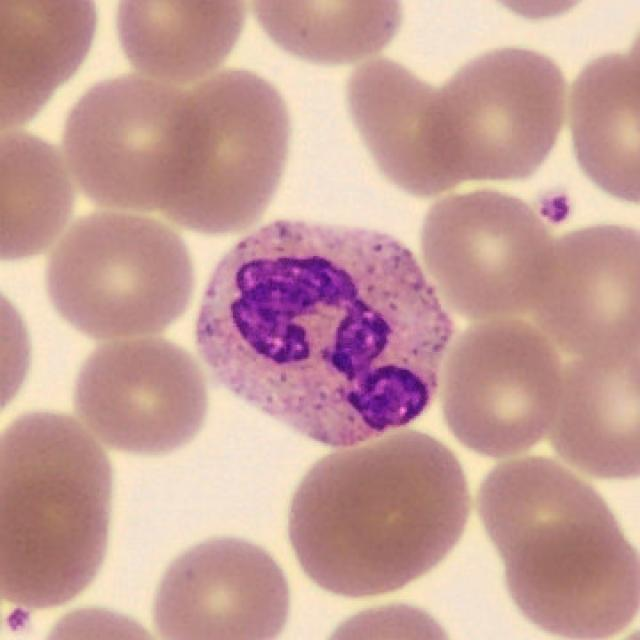Neutrofilo segmentado: (196, 220, 453, 450)
